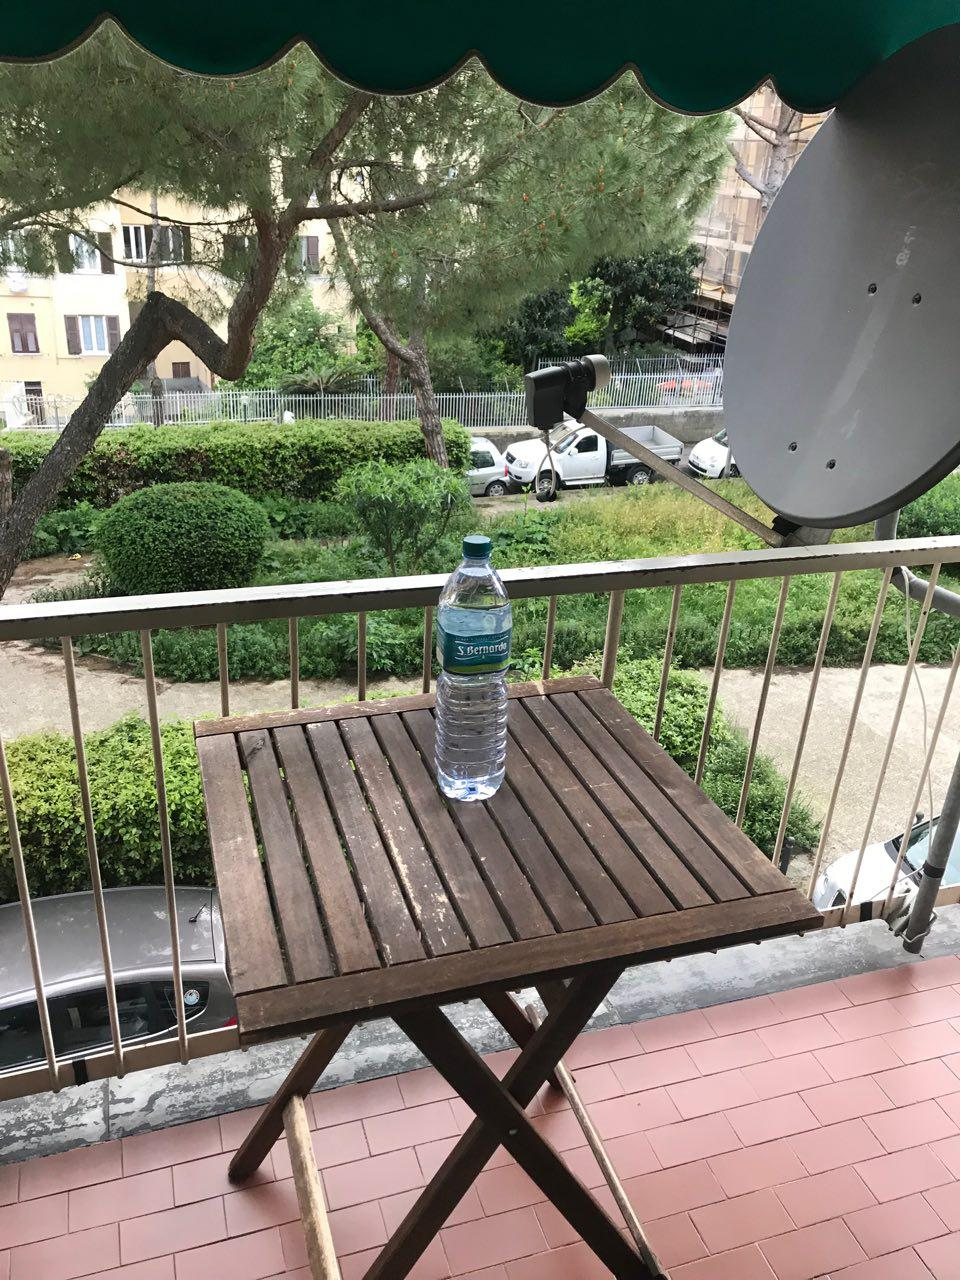san_bernardo: (433, 533, 512, 802)
